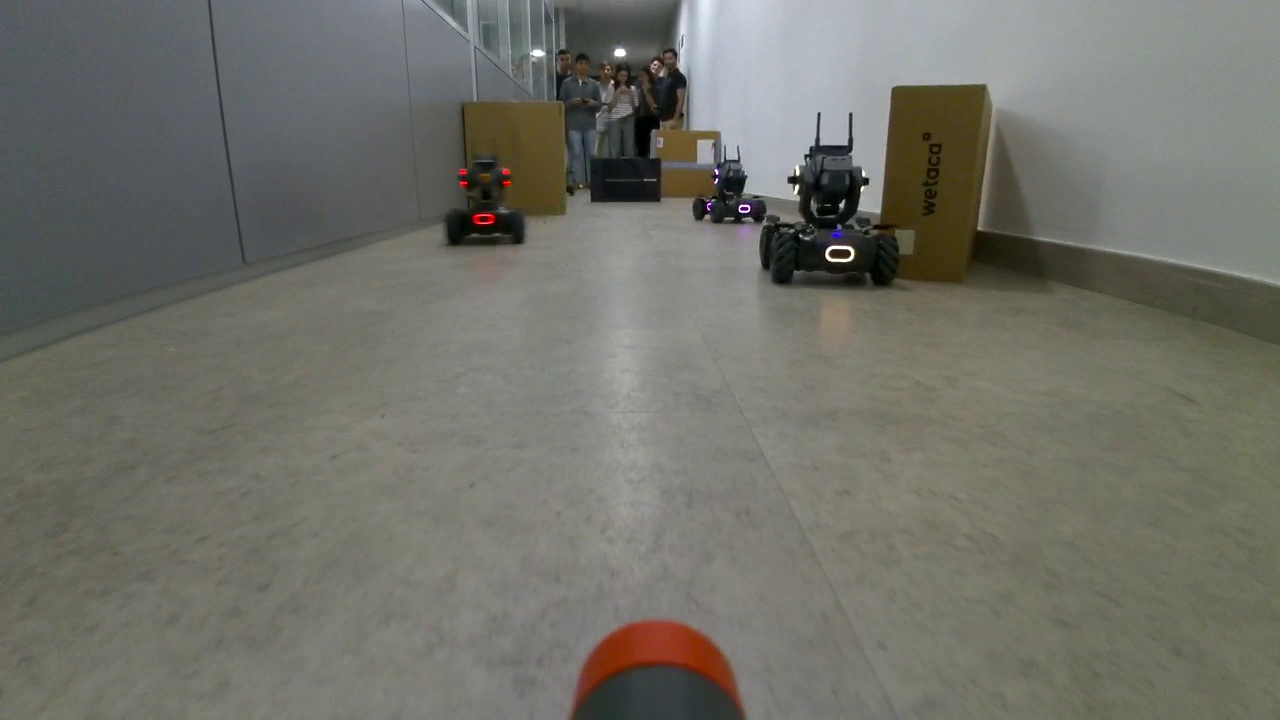robot: (756, 143, 894, 289), (445, 157, 529, 250), (691, 158, 765, 228)
